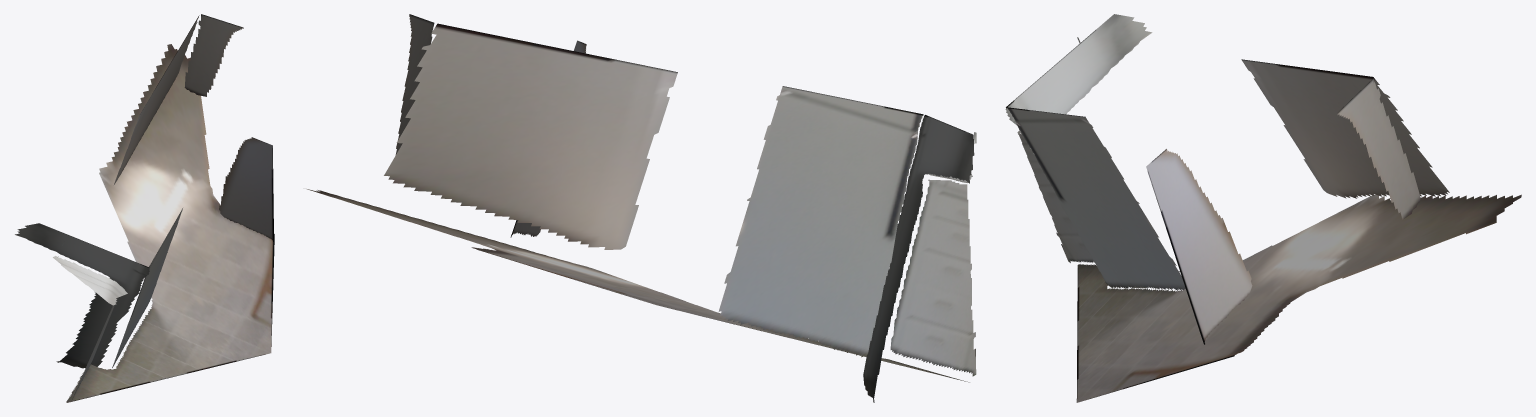
Rendered from 359_d2_depth_predplane_pred_model.glb.
3 renders of one model, left to right at view 1: azimuth 30°, elevation 25°; view 2: azimuth 150°, elevation 25°; view 3: azimuth 270°, elevation 25°, orthographic. The views are drawn at different scales.
Size of the model in its own units: 2.66 by 2.08 by 2.78.
